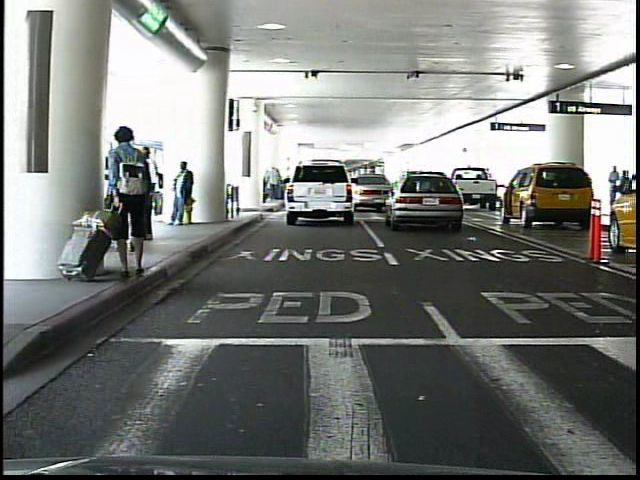person: (109, 124, 159, 283), (134, 145, 162, 239), (171, 157, 197, 228), (615, 166, 631, 212), (605, 163, 619, 214)
